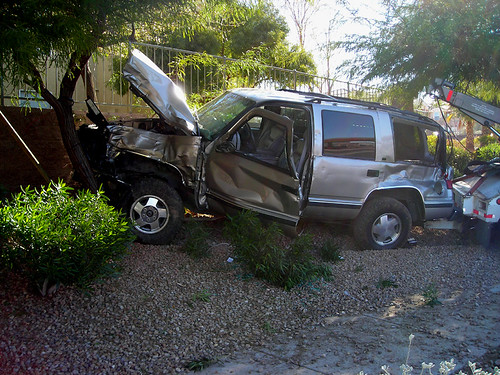car: (102, 79, 458, 237)
tree: (1, 1, 139, 236)
